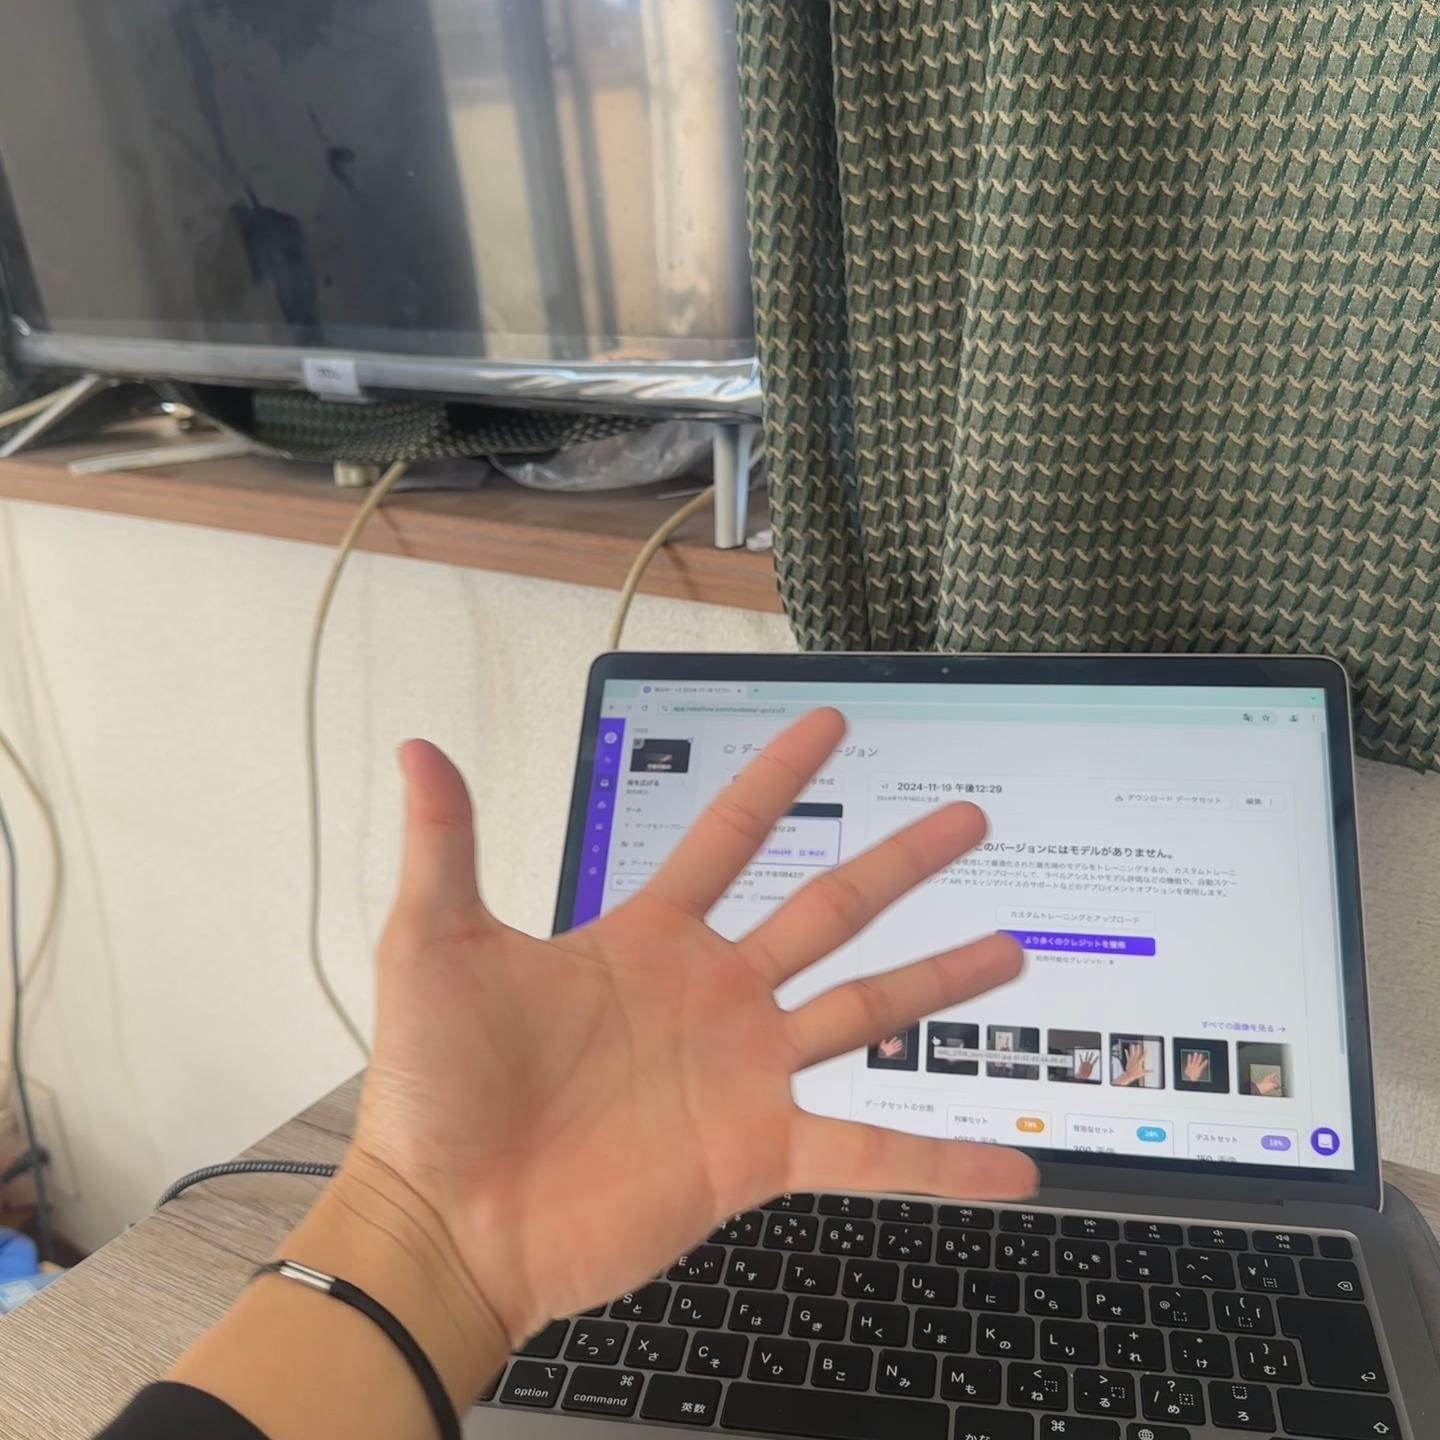without_gloves: (365, 508, 1350, 1440)
